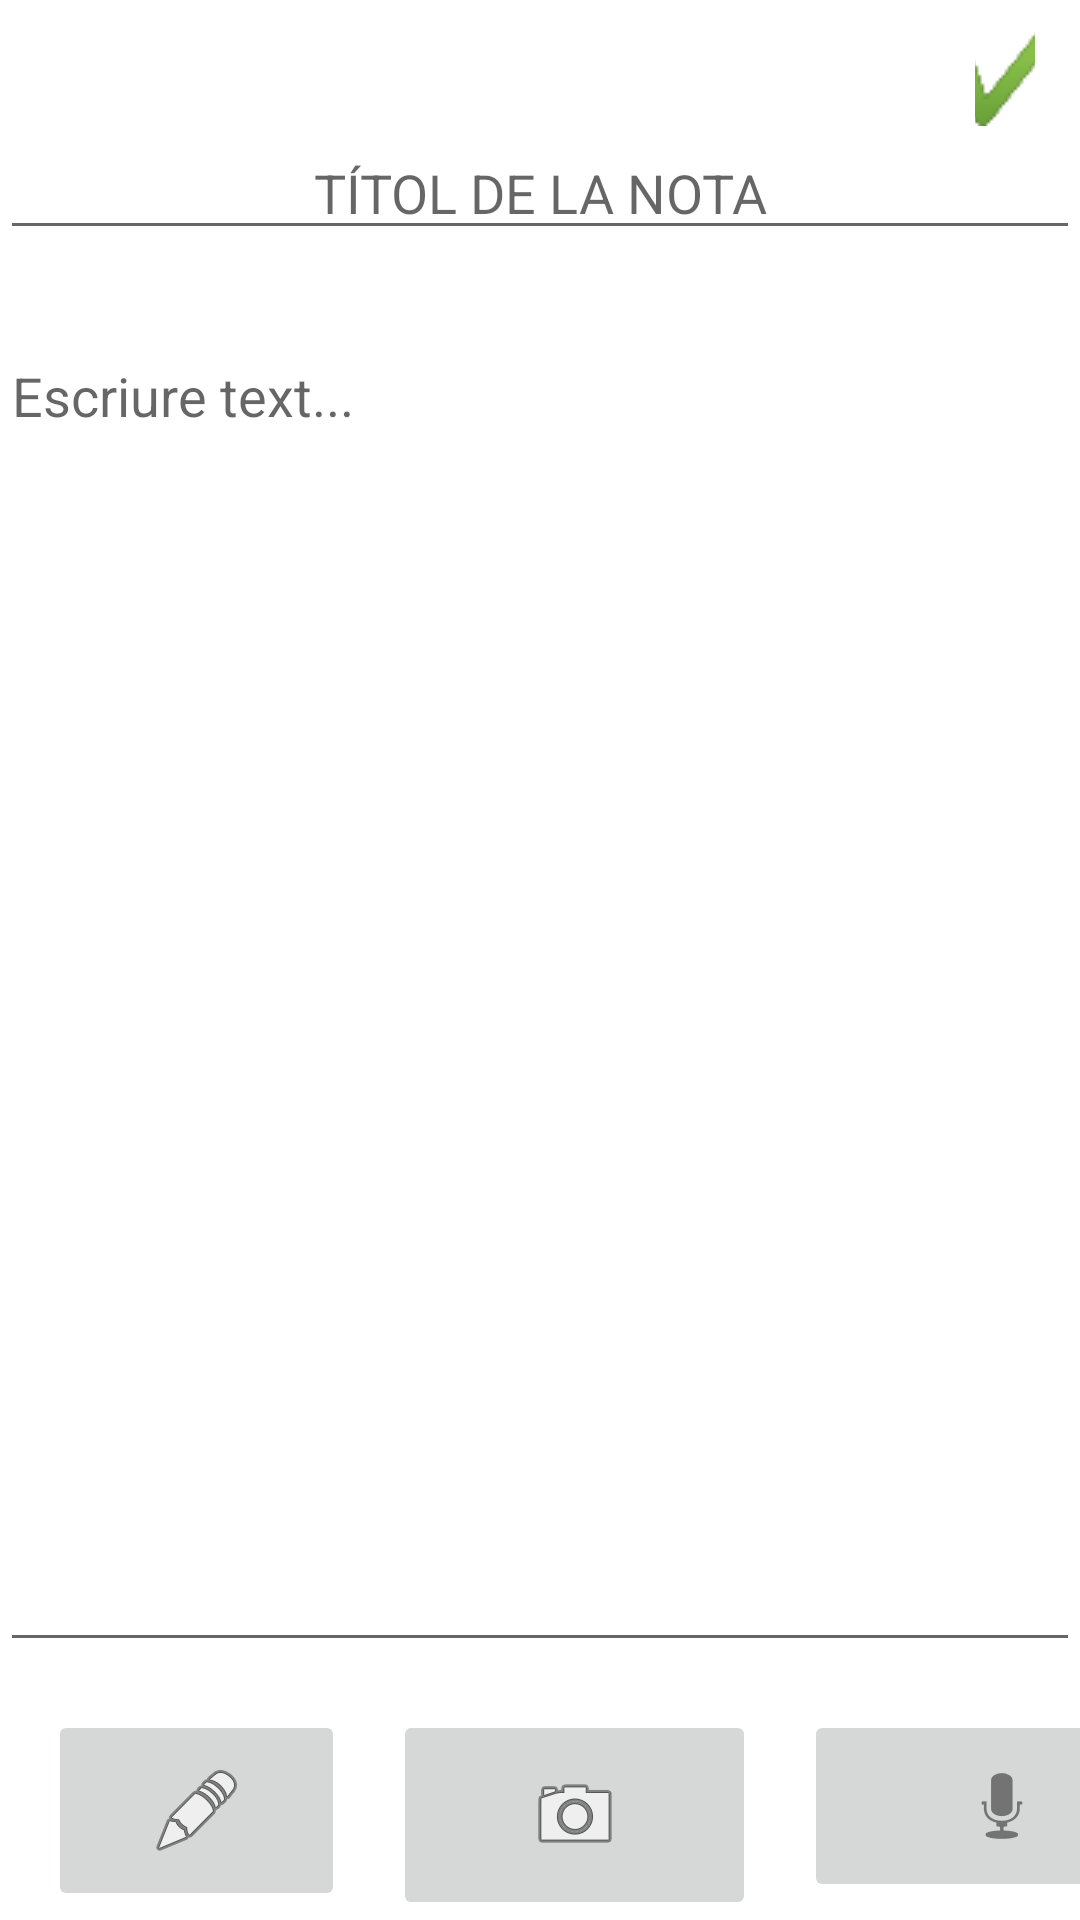

Where icons sit on this 1080px×1920px app screen, as (x1, y1, x2, y2):
camera: (405, 1728, 744, 1902)
edit: (60, 1728, 333, 1893)
